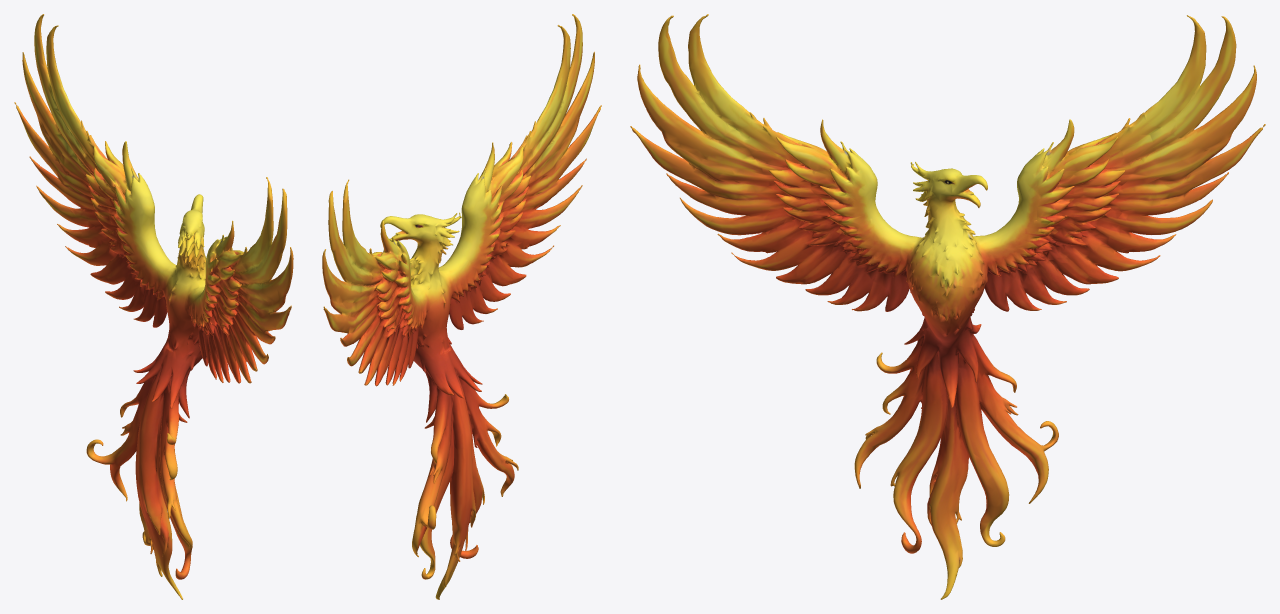
Rendered from phoenixian.glb.
The picture shows the model from 3 angles, left to right: view 1: azimuth 30°, elevation 25°; view 2: azimuth 150°, elevation 25°; view 3: azimuth 270°, elevation 25°; orthographic projection. The views are drawn at different scales.
Visible parts, largest first — view 1: tripo_node_9992c201-b809-4c5c-9b42-fc17c23fb181; view 2: tripo_node_9992c201-b809-4c5c-9b42-fc17c23fb181; view 3: tripo_node_9992c201-b809-4c5c-9b42-fc17c23fb181.
Boxes of the visible parts, box(x1,y1,x2,y2) form: tripo_node_9992c201-b809-4c5c-9b42-fc17c23fb181: box(14, 14, 293, 599); tripo_node_9992c201-b809-4c5c-9b42-fc17c23fb181: box(322, 14, 601, 599); tripo_node_9992c201-b809-4c5c-9b42-fc17c23fb181: box(630, 14, 1265, 599).
Bounding box in the file's own units: 0.1998 × 1 × 0.9995.
1 material, 1 textured.
